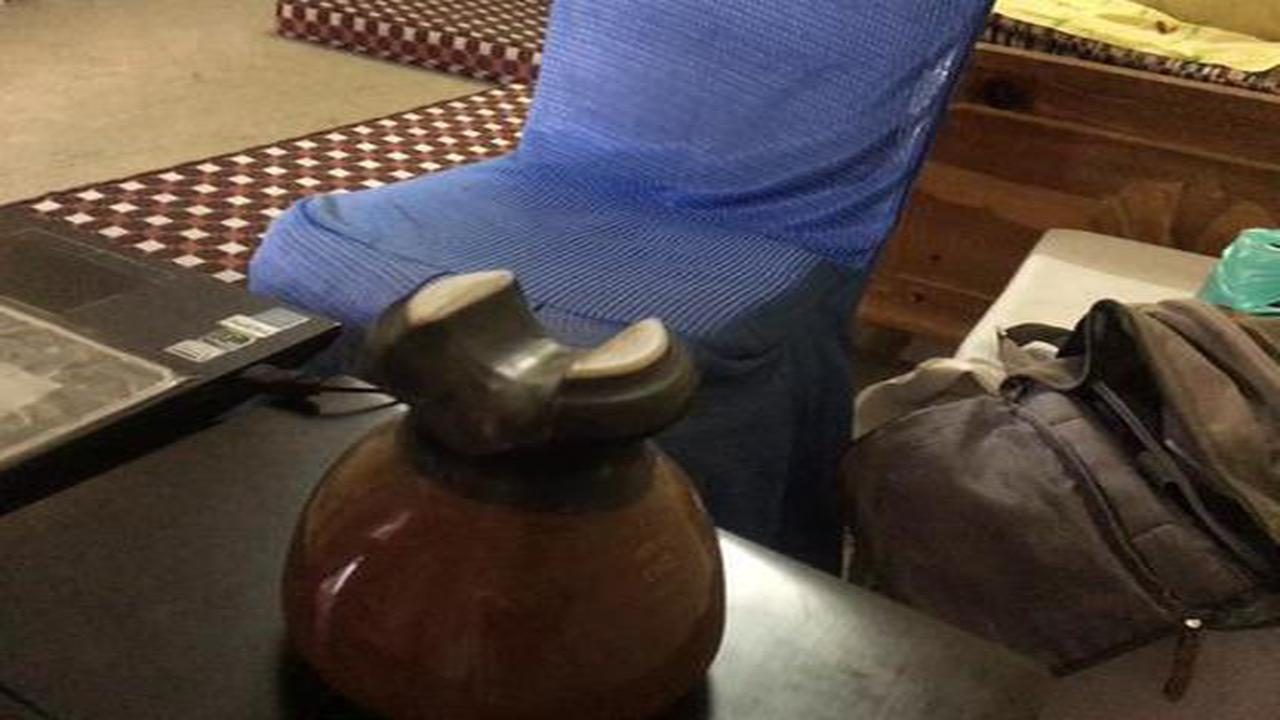insulator_pin: (277, 264, 739, 710)
